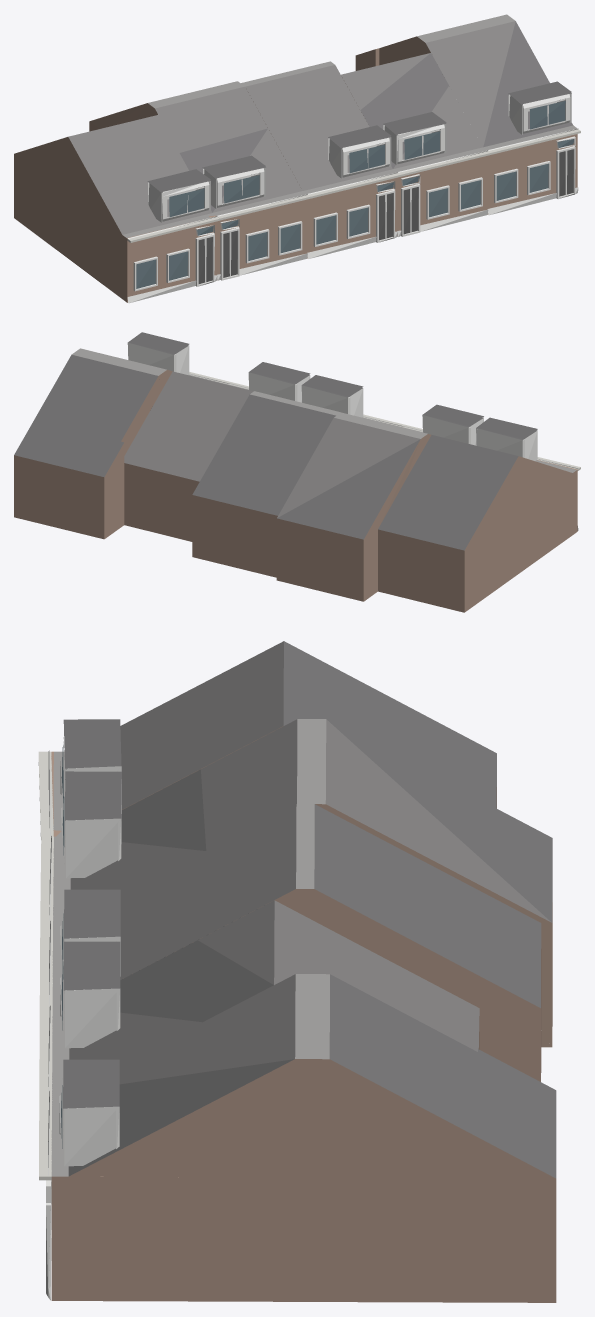
The model's file is chunk-face-nieuwendammerdijk-135-163-r1.lod2.glb.
The picture shows the model from 3 angles, top to bottom: view 1: azimuth 30°, elevation 25°; view 2: azimuth 150°, elevation 25°; view 3: azimuth 270°, elevation 25°; orthographic projection. The views are drawn at different scales.
Visible parts, largest first — view 1: lod2; view 2: lod2; view 3: lod2.
Boxes of the visible parts, left/top/right/bottom form: lod2: left=14, top=14, right=580, bottom=303; lod2: left=14, top=332, right=580, bottom=612; lod2: left=38, top=641, right=556, bottom=1302.
Size of the model in its own units: 23.8 by 6.31 by 12.2.
